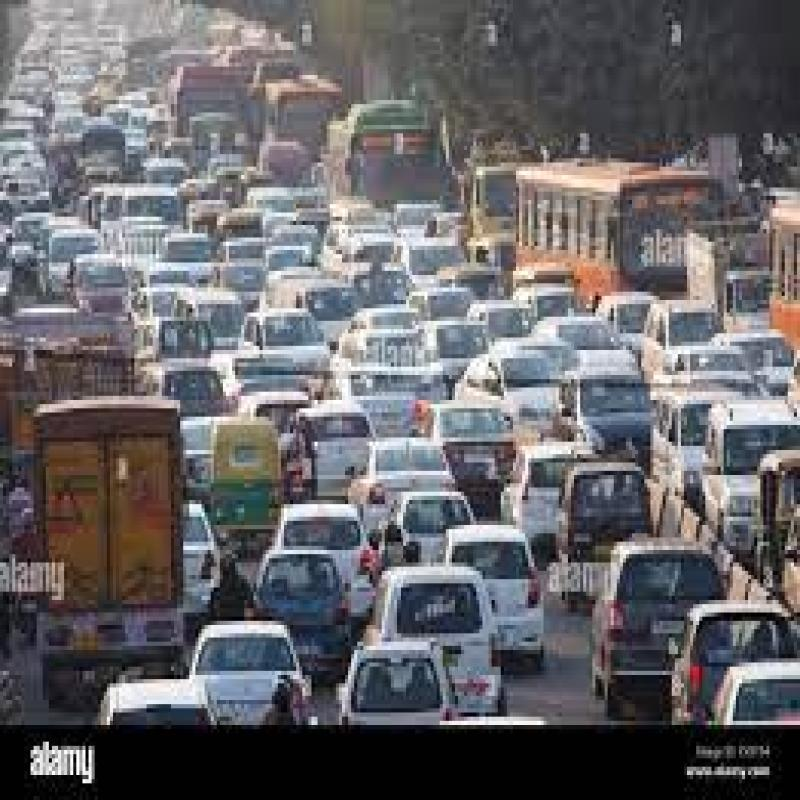AmbulanceSiren: (203, 416, 286, 558)
bus: (507, 143, 726, 329)
car: (590, 531, 720, 701), (378, 572, 502, 720), (443, 516, 556, 653), (564, 468, 672, 610), (677, 594, 786, 724), (344, 636, 450, 742)
